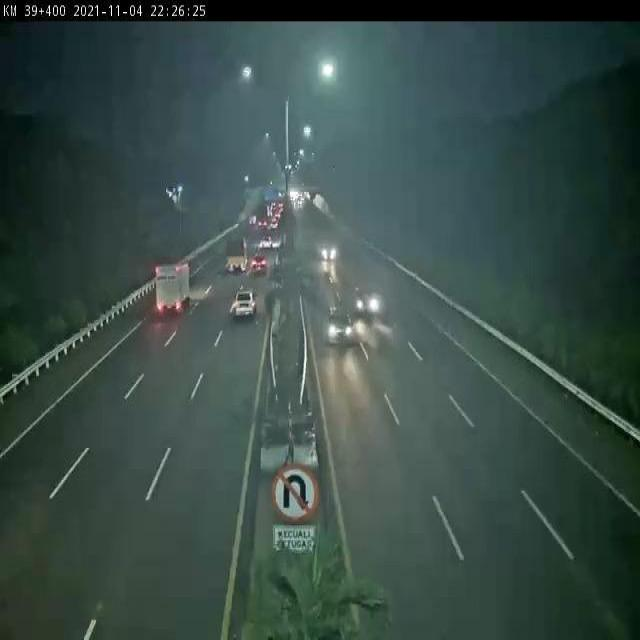car: (325, 303, 352, 344), (356, 284, 381, 319), (318, 237, 338, 260), (235, 291, 255, 313), (253, 256, 265, 271), (260, 235, 272, 248)
truck-m-: (156, 263, 190, 312), (226, 235, 248, 272)
